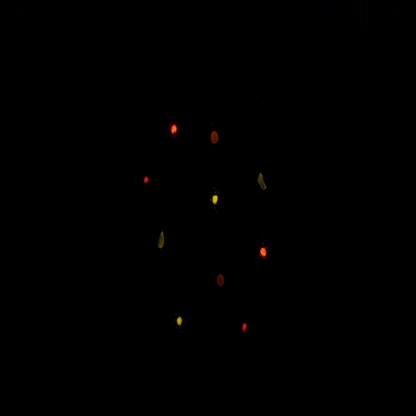PE: (172, 306, 188, 336), (210, 189, 221, 212)
PET: (140, 169, 159, 195), (241, 318, 252, 343)
PP: (152, 220, 170, 262), (256, 169, 271, 198)
PS: (215, 269, 227, 298), (209, 126, 222, 152)
PVC: (168, 117, 184, 148), (259, 238, 273, 269)
